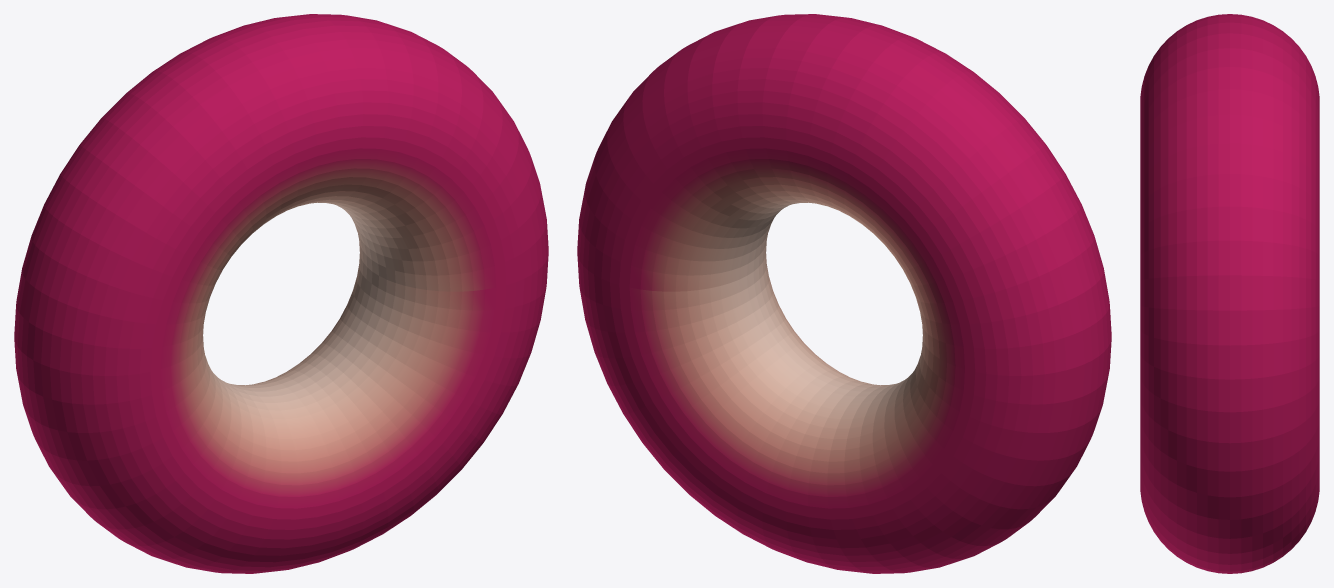
The picture shows the model from 3 angles, left to right: view 1: azimuth 30°, elevation 25°; view 2: azimuth 150°, elevation 25°; view 3: azimuth 270°, elevation 25°; orthographic projection. The views are drawn at different scales.
Visible parts, largest first — view 1: world; view 2: world; view 3: world.
Part boxes in pixels (x1,y1,x2,y2): world: (14, 14, 548, 573); world: (577, 14, 1111, 573); world: (1140, 14, 1319, 573).
Bounding box in the file's own units: 29.47 × 29.41 × 9.45.
